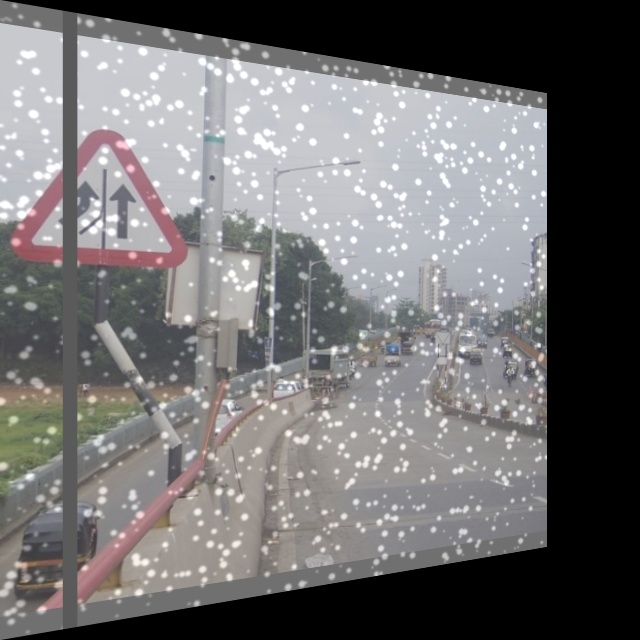Merge_Traffic_Ahead: (33, 110, 166, 276)
